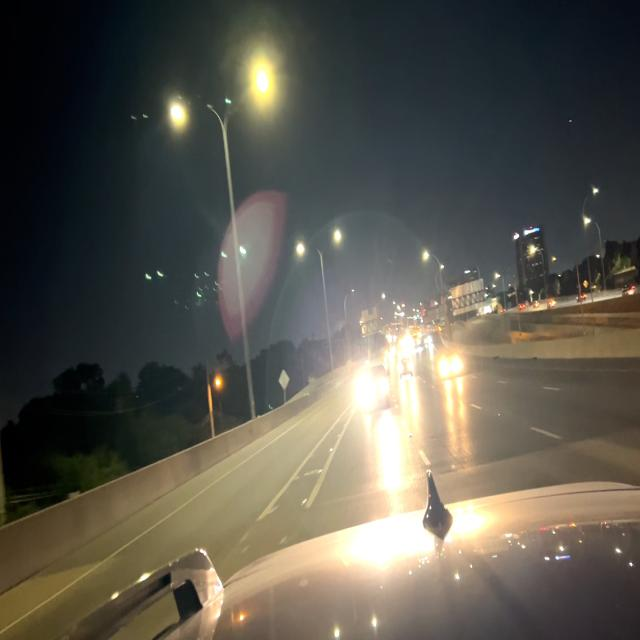back-of-sign: (451, 276, 486, 318), (360, 307, 381, 341), (278, 368, 290, 393)
